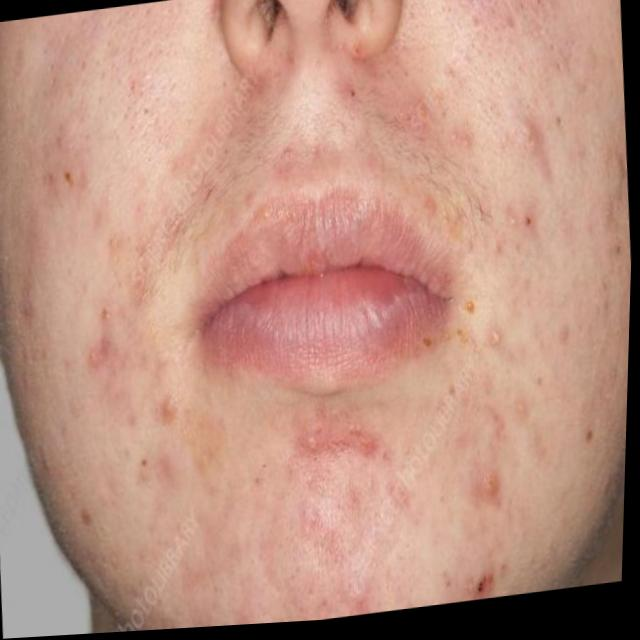Acne: (11, 20, 638, 638)
